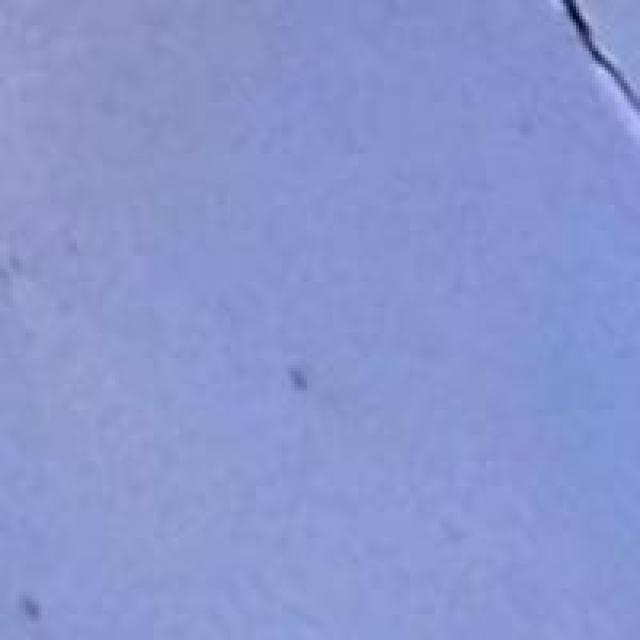crack: (506, 0, 636, 128)
